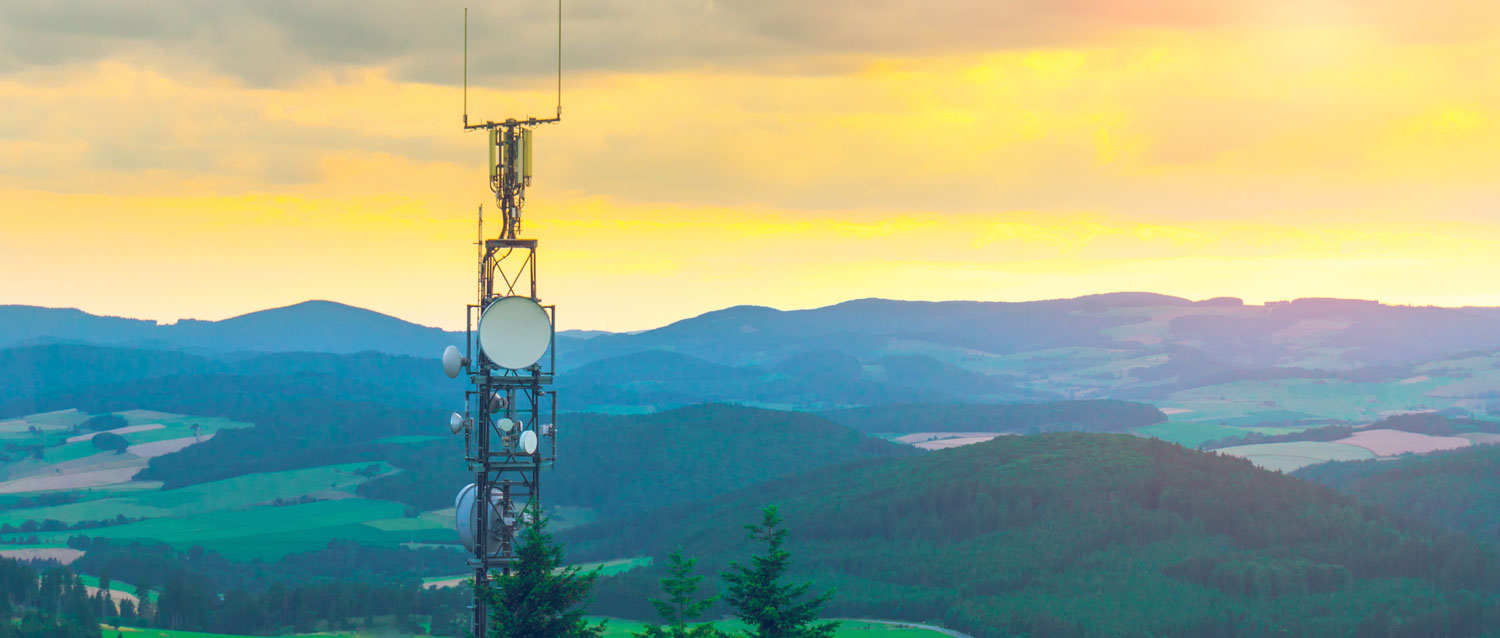ba: (465, 290, 562, 388), (455, 474, 520, 570)
